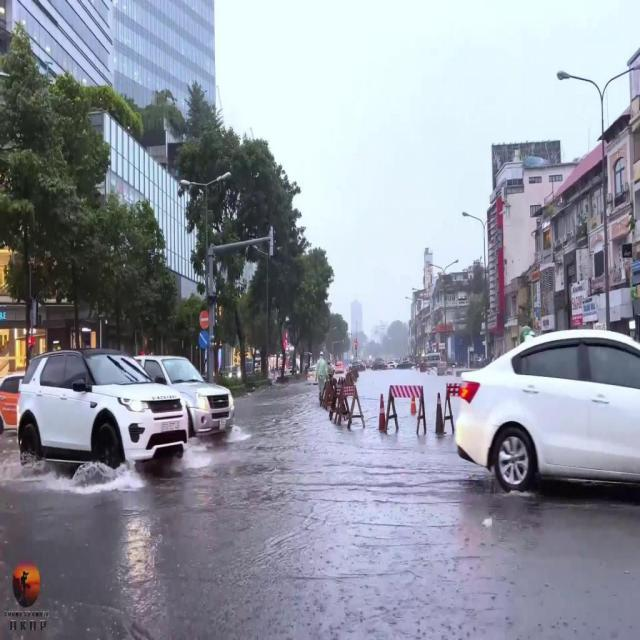cam_xe_di_nguoc_chieu: (198, 310, 209, 330)
huong_phai_di_vuot_chuong_ngai_vat_phai: (198, 331, 209, 348)
